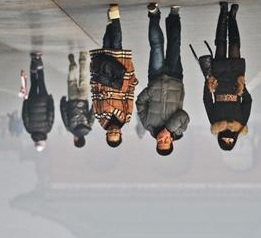person: (136, 3, 190, 157), (203, 2, 253, 150), (90, 3, 139, 148), (21, 52, 55, 152), (61, 52, 94, 148)
